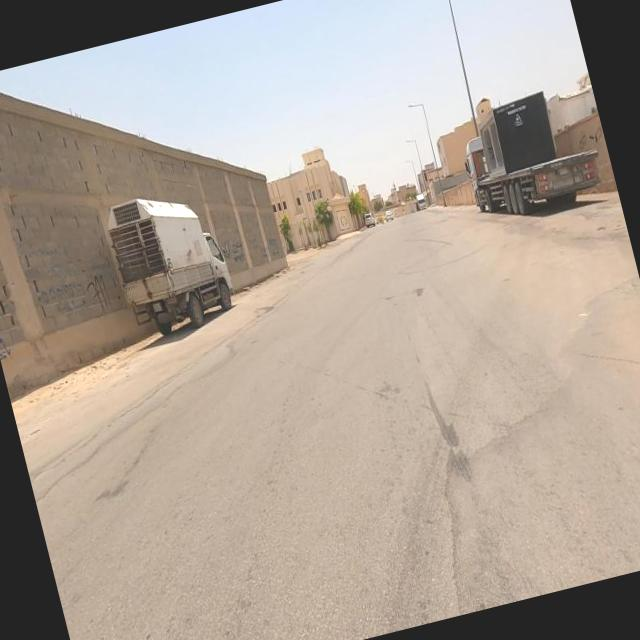debris: (197, 204, 271, 300), (248, 218, 300, 273)
